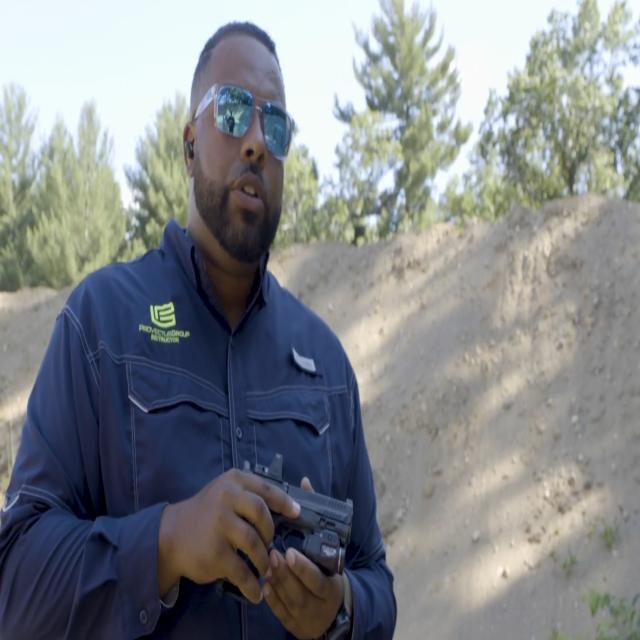Gun_Holder: (217, 434, 403, 629)
Person: (12, 0, 414, 640)
